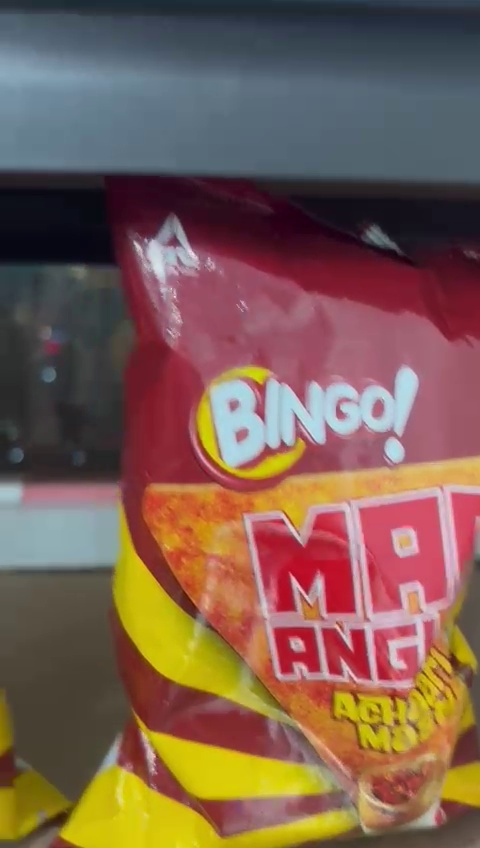Bingo Mad Angles: (106, 182, 480, 848)
